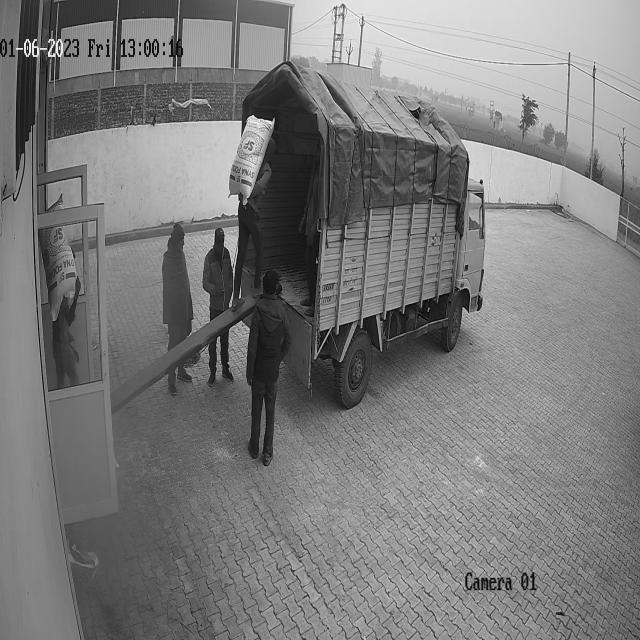sack: (38, 198, 78, 320), (228, 113, 275, 205)
